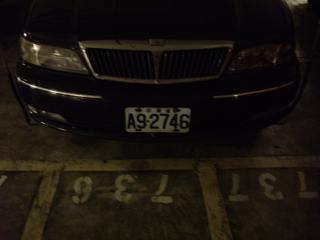plate: (124, 105, 192, 134)
